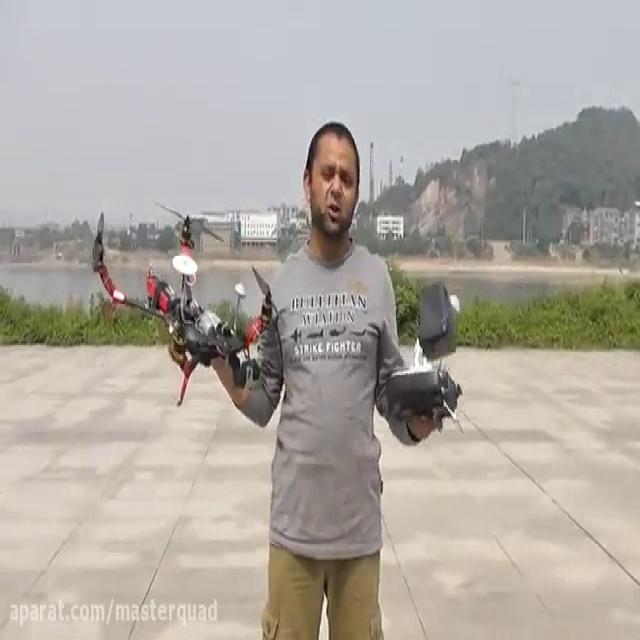drone: (90, 201, 285, 409)
